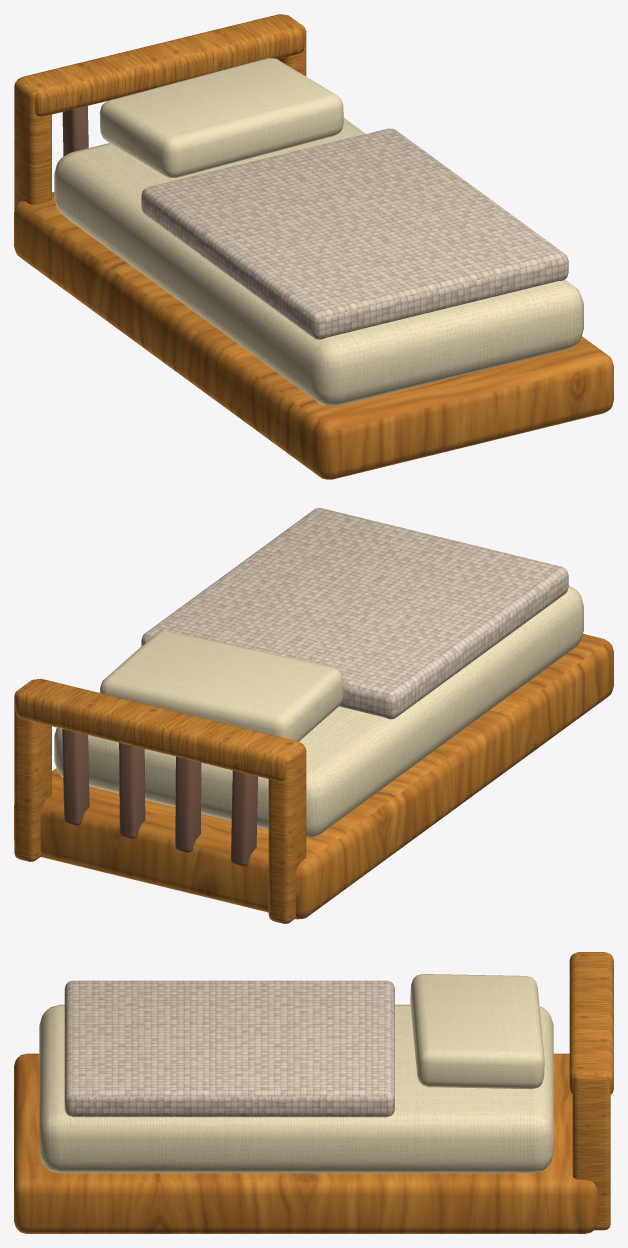
File: single-bed.glb
3 views of the same model, one above another, from view 1: azimuth 30°, elevation 25°; view 2: azimuth 150°, elevation 25°; view 3: azimuth 270°, elevation 25° (orthographic). The views are drawn at different scales.
Visible parts, largest first — view 1: single-bed; view 2: single-bed; view 3: single-bed.
Part boxes in pixels (x1,y1,x2,y2): single-bed: [14, 14, 613, 479]; single-bed: [14, 508, 613, 923]; single-bed: [14, 952, 613, 1233].
Size of the model in its own units: 1 by 0.5565 by 1.89.
4 materials, 3 textured.
